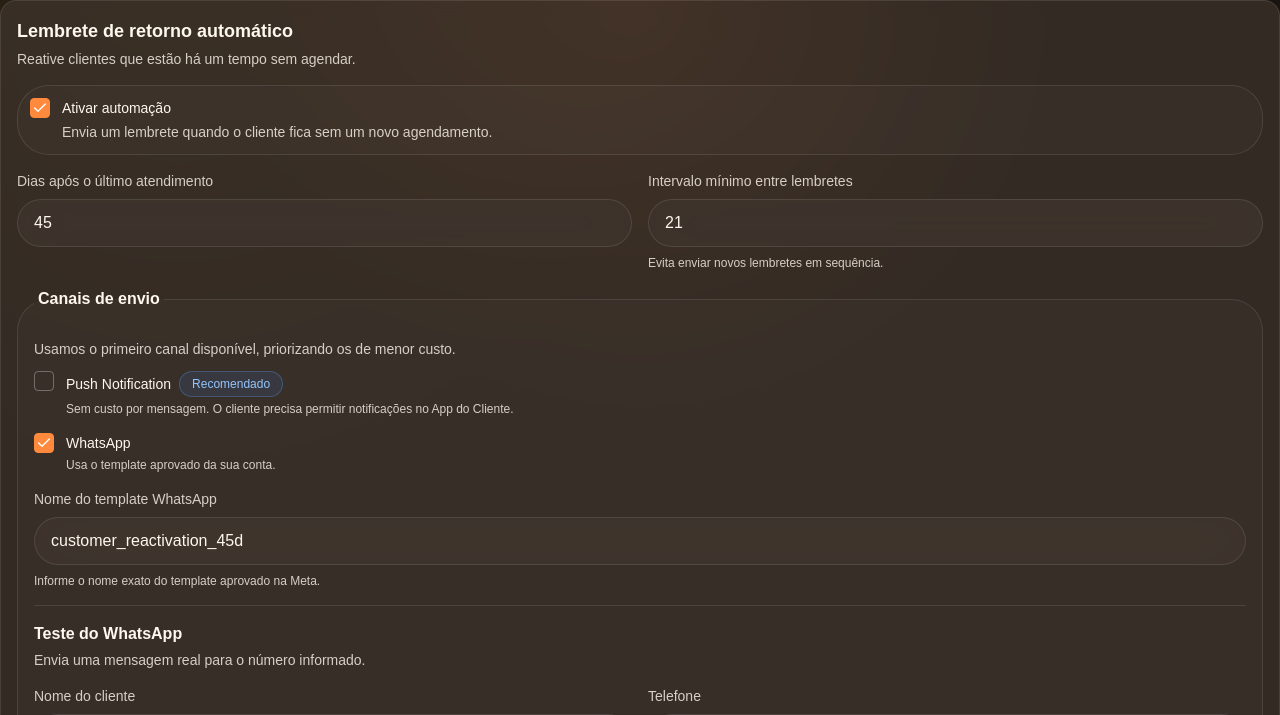
Test: CustomerReactivationConfig › preserves the template when WhatsApp is hidden and re-enabled
Click the 3rd checkbox named "Ativar canal WhatsApp": (44, 443) [34,433,54,453]
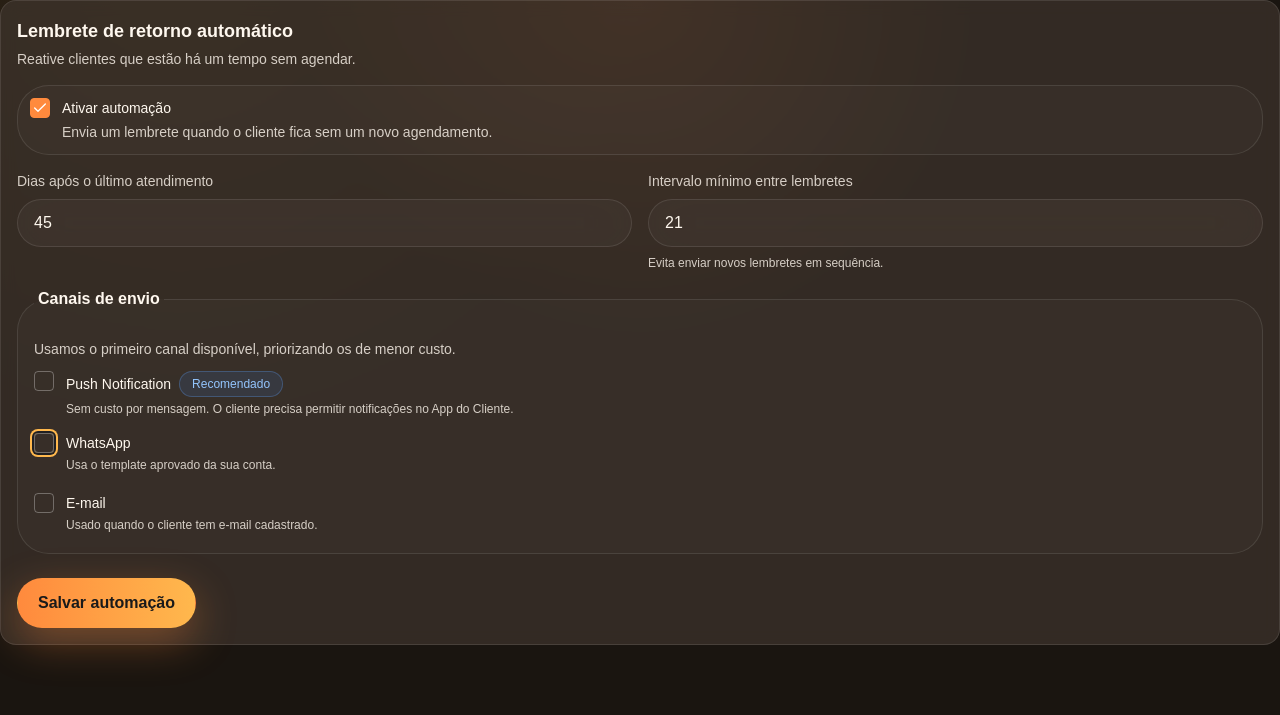
Check: the label labelled "Nome do template WhatsApp" is gone
Check: the heading "Teste do WhatsApp" is gone
Click the checkbox named "Ativar canal WhatsApp" next to "WhatsApp": (44, 443) [34,433,54,453]
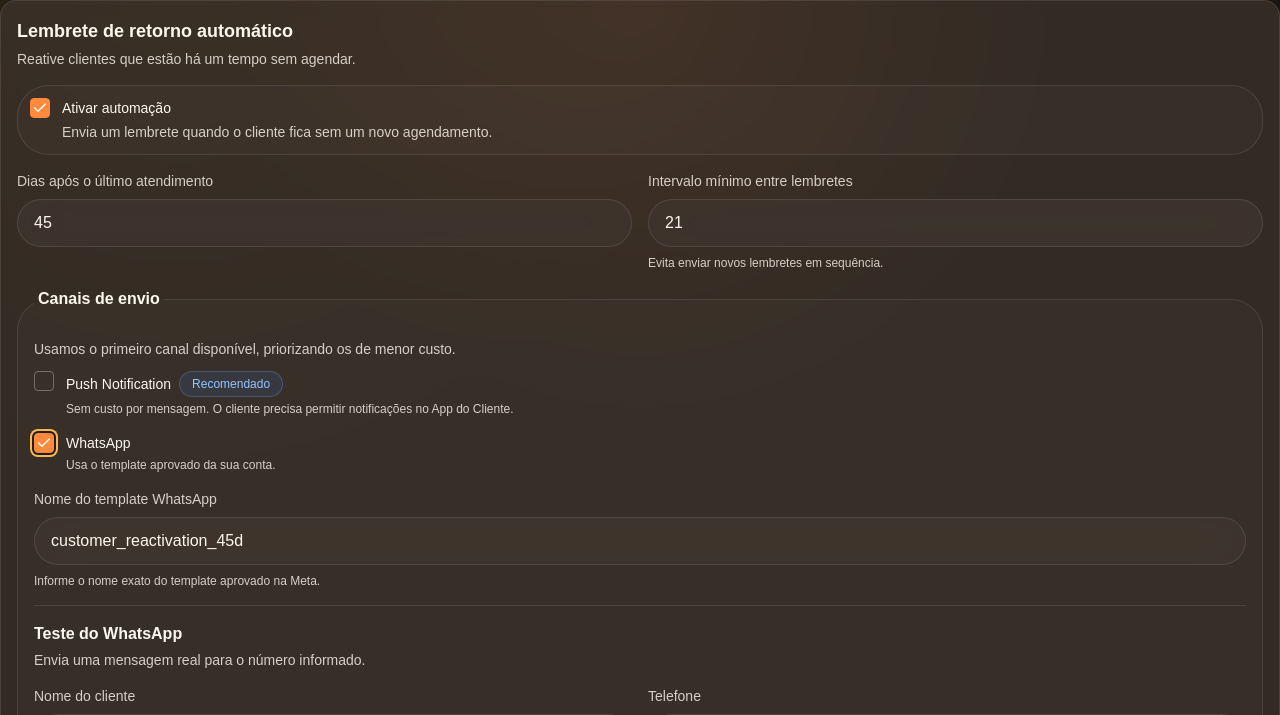
Check: the field showing "customer_reactivation_45d" is shown, box [34,517,1246,565]
Check: the heading "Teste do WhatsApp" is shown, box [34,625,182,642]
